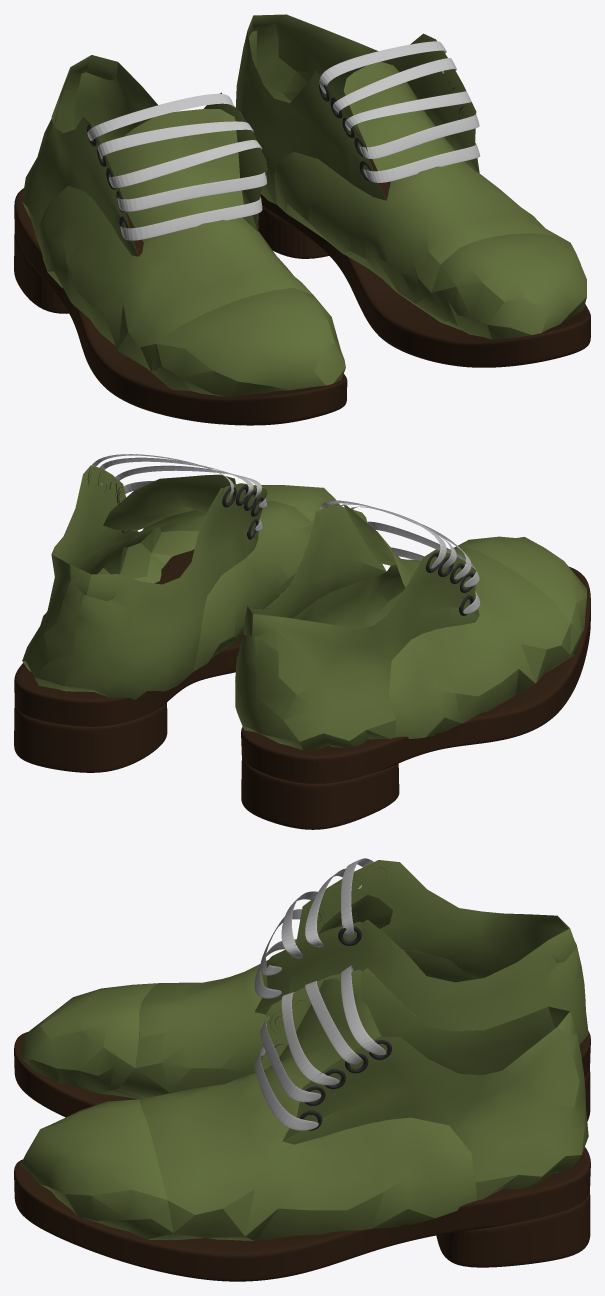
File: za1pri2.fbx
The picture shows the model from 3 angles, top to bottom: view 1: azimuth 30°, elevation 25°; view 2: azimuth 150°, elevation 25°; view 3: azimuth 270°, elevation 25°; orthographic projection. The views are drawn at different scales.
Parts seen in each view (by area): view 1: ZAPATO1_3.001, ZAPATO1_3, Plane.011, Plane, Plane.009, Plane.006, Plane.010, Plane.008, Plane.007, Plane.002, Plane.003, Plane.004 (+2 smaller); view 2: ZAPATO1_3.001, ZAPATO1_3, Plane.011, Plane, Plane.009, Plane.001, Plane.003, Plane.007; view 3: ZAPATO1_3, ZAPATO1_3.001, Plane, Plane.011, Plane.001, Plane.004, Plane.003, Plane.005, Plane.002, Plane.007, Plane.008, Plane.010.
Part boxes in pixels (left/top/right/bottom): ZAPATO1_3.001: left=22, top=55, right=345, bottom=396; ZAPATO1_3: left=236, top=14, right=586, bottom=339; Plane.011: left=14, top=188, right=347, bottom=425; Plane: left=258, top=159, right=590, bottom=367; Plane.009: left=117, top=172, right=266, bottom=211; Plane.006: left=120, top=196, right=262, bottom=240; Plane.010: left=109, top=140, right=262, bottom=187; Plane.008: left=97, top=121, right=253, bottom=158; Plane.007: left=87, top=93, right=234, bottom=140; Plane.002: left=359, top=114, right=479, bottom=158; Plane.003: left=333, top=58, right=456, bottom=112; Plane.004: left=319, top=41, right=446, bottom=93; ZAPATO1_3.001: left=235, top=505, right=586, bottom=750; ZAPATO1_3: left=22, top=465, right=339, bottom=699; Plane.011: left=241, top=566, right=590, bottom=829; Plane: left=14, top=549, right=243, bottom=772; Plane.009: left=366, top=521, right=479, bottom=587; Plane.001: left=115, top=465, right=262, bottom=501; Plane.003: left=99, top=457, right=253, bottom=497; Plane.007: left=320, top=500, right=446, bottom=568; ZAPATO1_3: left=20, top=968, right=588, bottom=1240; ZAPATO1_3.001: left=20, top=860, right=588, bottom=1099; Plane: left=14, top=1147, right=590, bottom=1281; Plane.011: left=14, top=1031, right=590, bottom=1121; Plane.001: left=281, top=992, right=339, bottom=1085; Plane.004: left=340, top=965, right=386, bottom=1055; Plane.003: left=305, top=981, right=361, bottom=1064; Plane.005: left=254, top=1047, right=318, bottom=1130; Plane.002: left=260, top=1016, right=321, bottom=1102; Plane.007: left=340, top=858, right=373, bottom=938; Plane.008: left=305, top=868, right=361, bottom=947; Plane.010: left=281, top=891, right=317, bottom=958.
Bounding box in the file's own units: 412 × 209 × 447.
